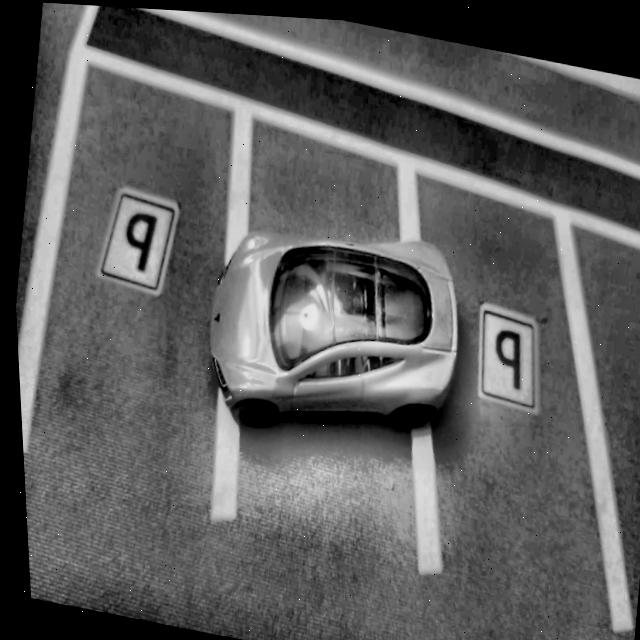car: (188, 196, 473, 459)
